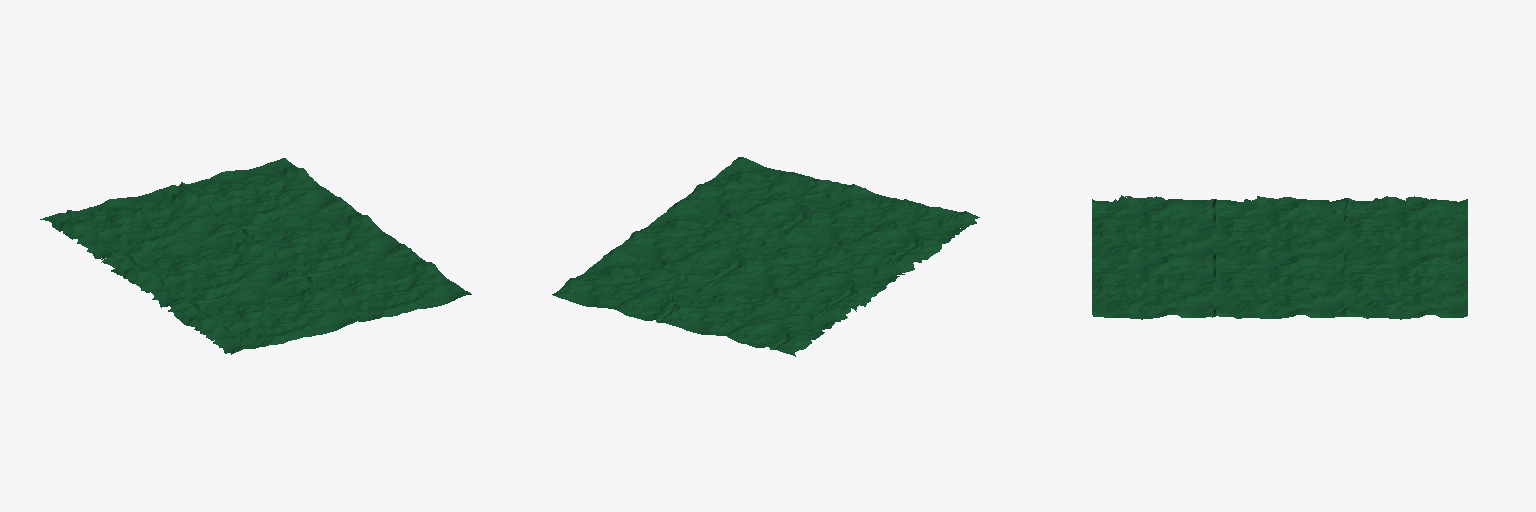
Rendered from oceano.obj.
The picture shows the model from 3 angles: view 1: azimuth 30°, elevation 25°; view 2: azimuth 150°, elevation 25°; view 3: azimuth 270°, elevation 25°; orthographic projection.
Parts seen in each view (by area): view 1: Plane.001_Plane.002; view 2: Plane.001_Plane.002; view 3: Plane.001_Plane.002.
Part boxes in pixels (x1,y1,x2,y2): Plane.001_Plane.002: (40, 158, 471, 354); Plane.001_Plane.002: (552, 157, 979, 356); Plane.001_Plane.002: (1092, 195, 1467, 319).
Bounding box in the file's own units: 15.16 × 0.4085 × 19.92.